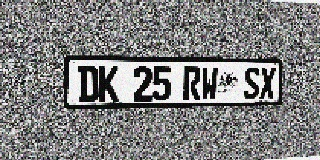2: (134, 66, 152, 101)
5: (153, 67, 171, 101)
D: (78, 66, 98, 102)
K: (99, 66, 118, 102)
R: (183, 67, 201, 100)
S: (243, 67, 260, 99)
W: (201, 67, 218, 100)
X: (259, 67, 276, 99)
